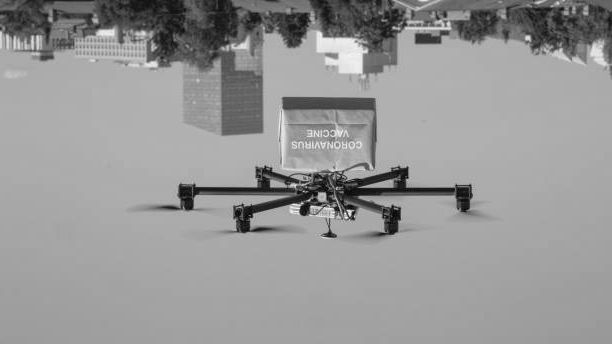Drone: (126, 161, 512, 244)
